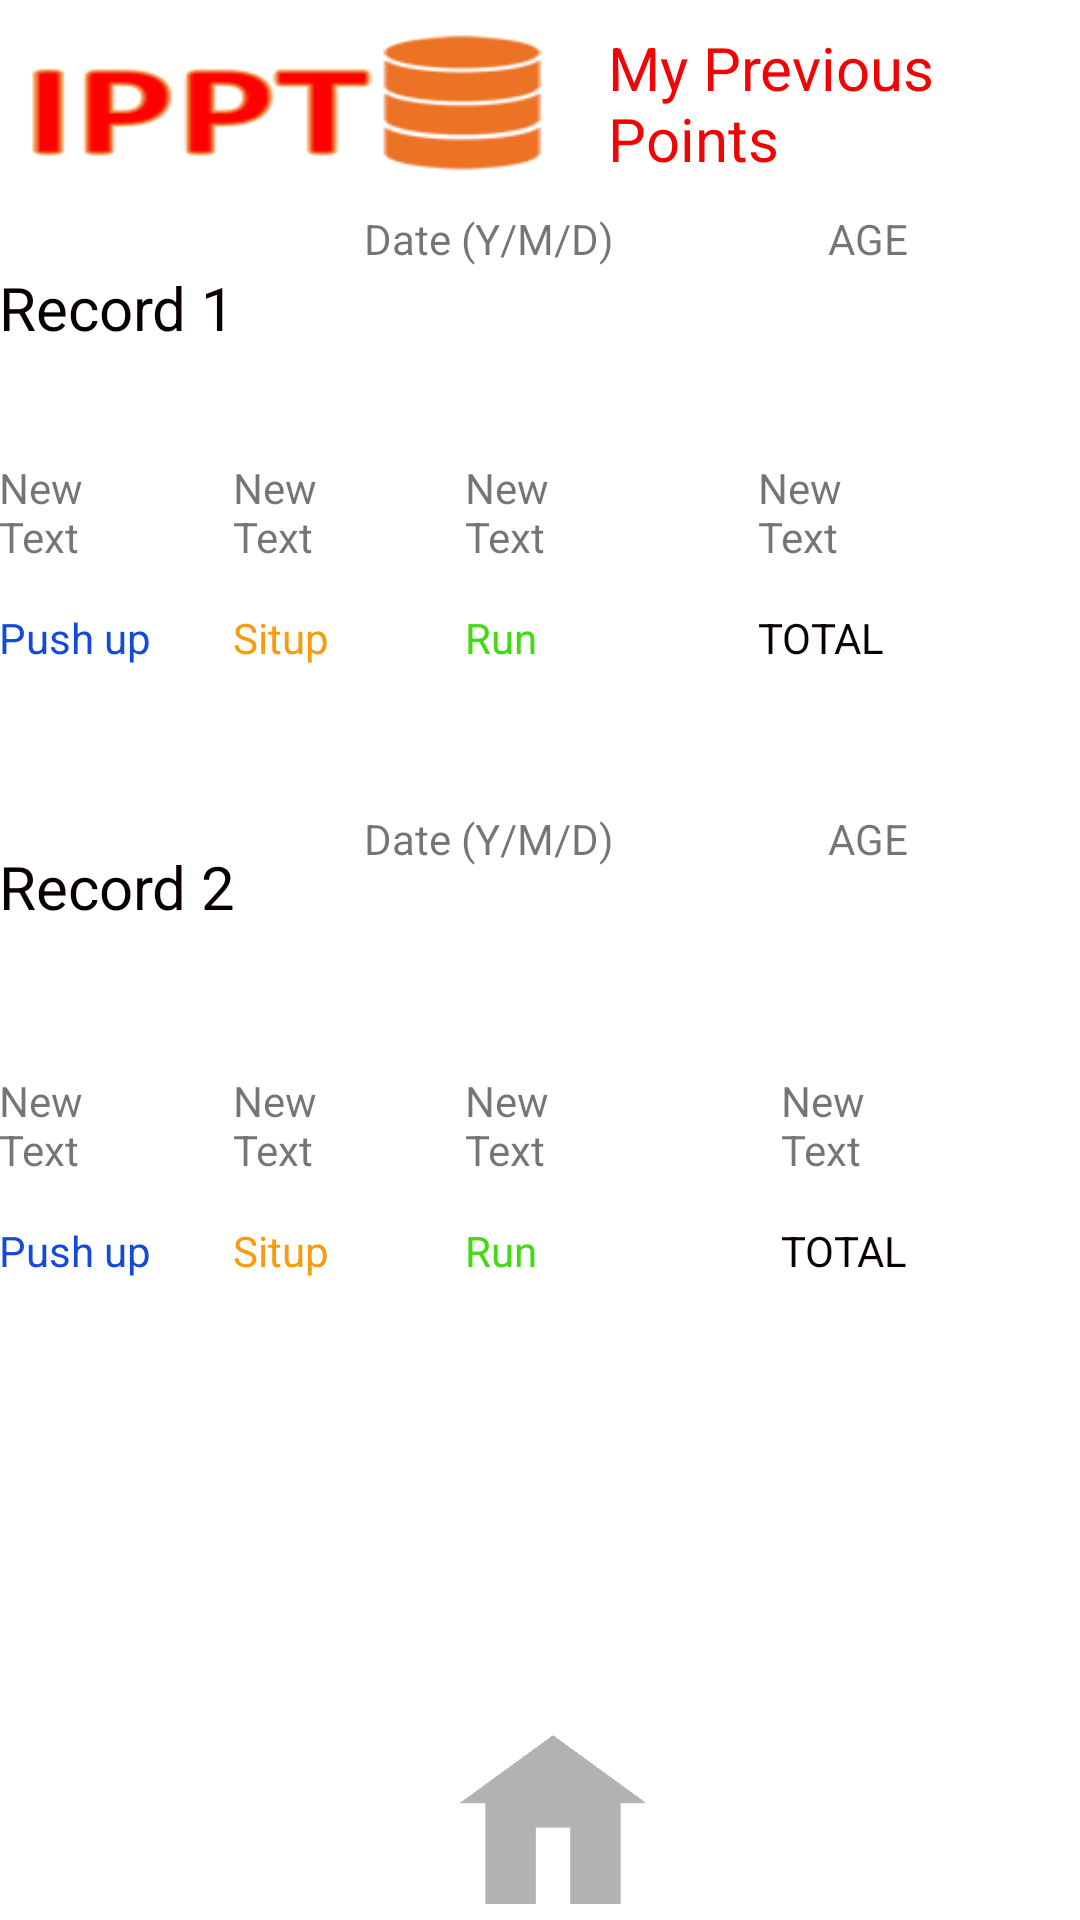

Locate icon controls on the screen. Image size 1080*1920, boxes as (x1, y1, x2, y2).
home: (460, 1735, 645, 1904)
